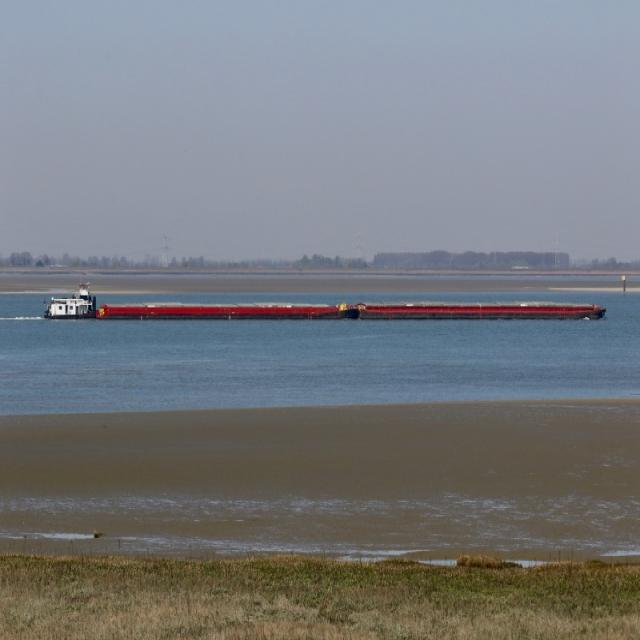tugboat: (40, 281, 104, 329)
